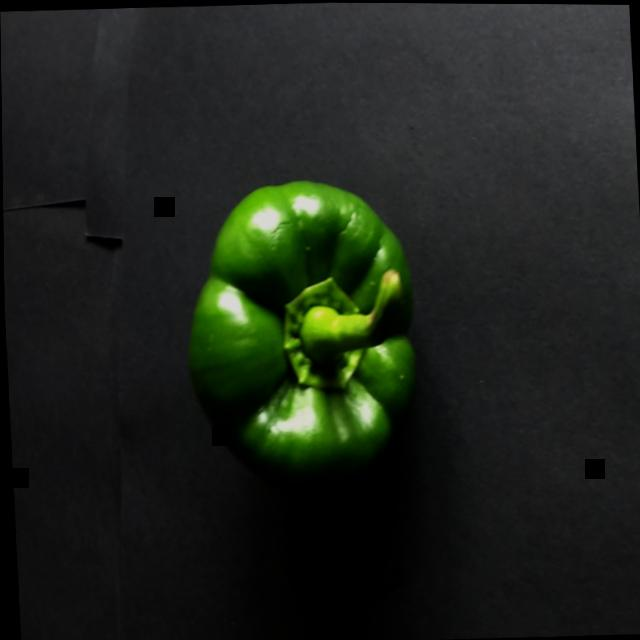Greenpepper: (152, 140, 451, 519)
